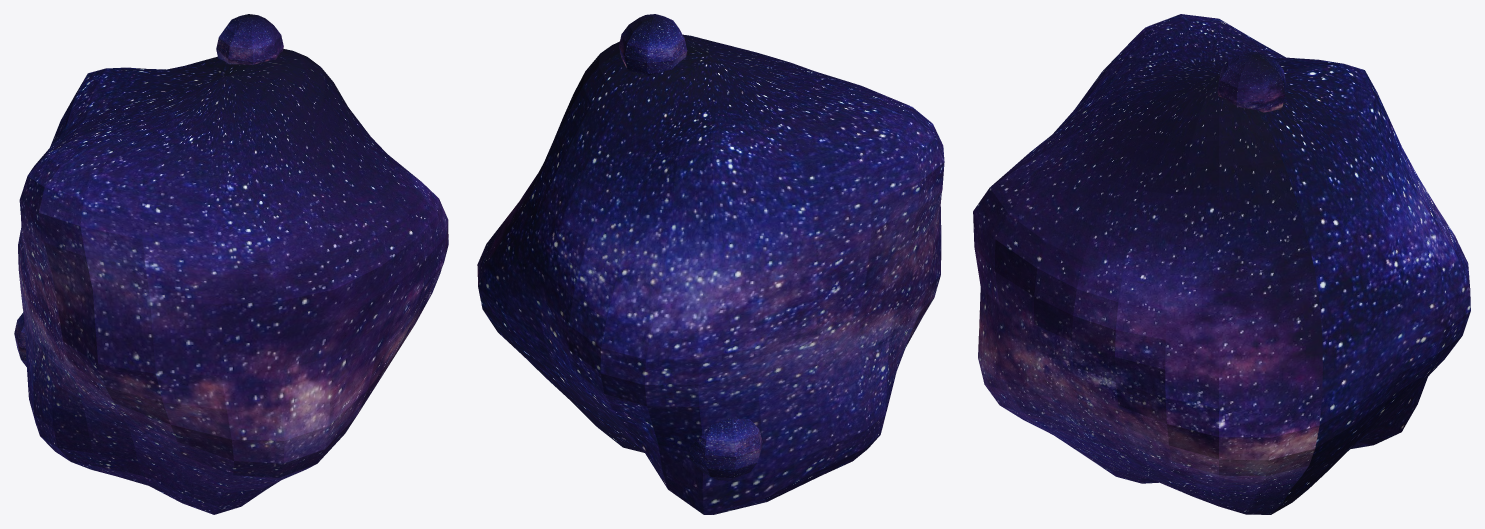
The model's file is DIB_nebula.fbx.
3 renders of one model, left to right at view 1: azimuth 30°, elevation 25°; view 2: azimuth 150°, elevation 25°; view 3: azimuth 270°, elevation 25°, orthographic. The views are drawn at different scales.
Visible parts, largest first — view 1: dream_nebula, dream_blob_2; view 2: dream_nebula, dream_blob_1, dream_blob_2; view 3: dream_nebula, dream_blob_2.
Boxes of the visible parts, x1=… form: dream_nebula: x1=18, y1=49, x2=448, y2=514; dream_blob_2: x1=216, y1=14, x2=283, y2=65; dream_nebula: x1=477, y1=34, x2=944, y2=514; dream_blob_1: x1=689, y1=418, x2=762, y2=480; dream_blob_2: x1=619, y1=14, x2=687, y2=75; dream_nebula: x1=973, y1=14, x2=1470, y2=514; dream_blob_2: x1=1217, y1=52, x2=1286, y2=112.
Size of the model in its own units: 2.39 by 2.41 by 2.32.
